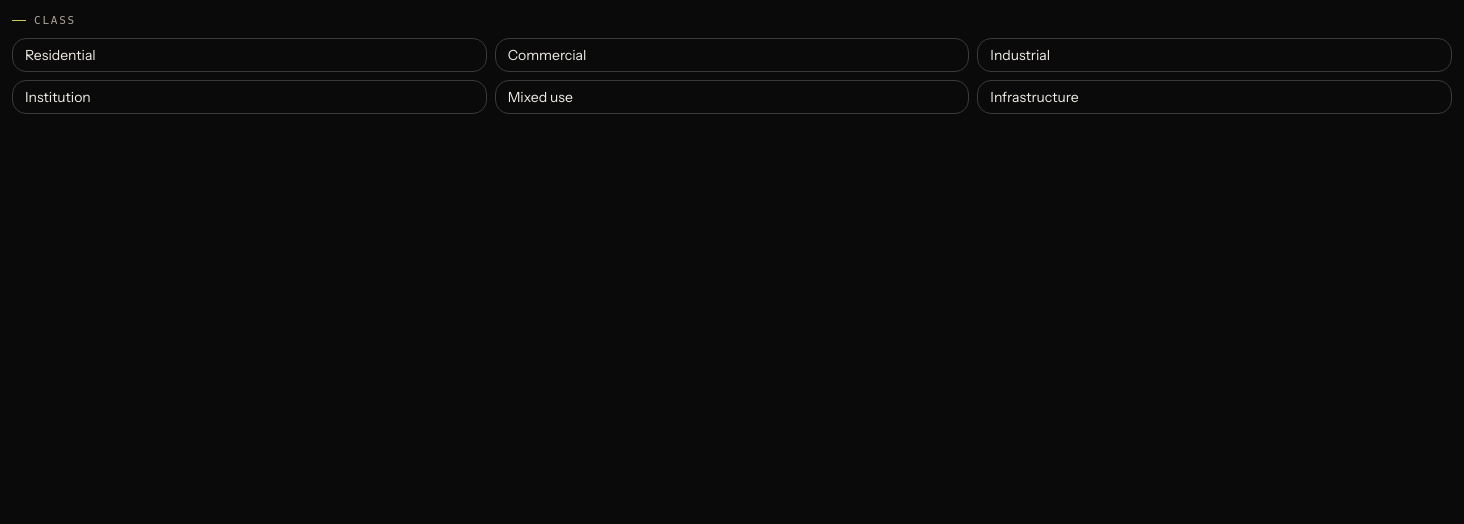
it: TaxonomyPicker › clears a scope category when the category checkbox is unchecked
This screenshot has width=1464, height=524.
Click the button "Industrial": [1020, 55] box [977,38,1452,72]
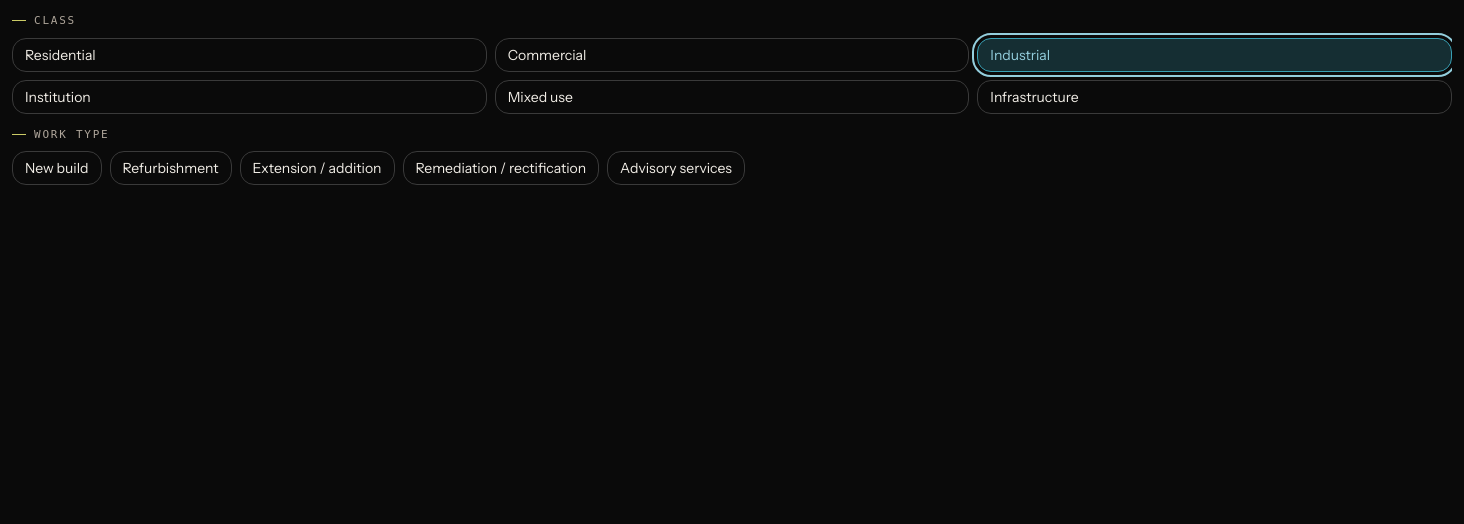
Click the button "Extension / addition": [317, 168] box [240,151,394,185]
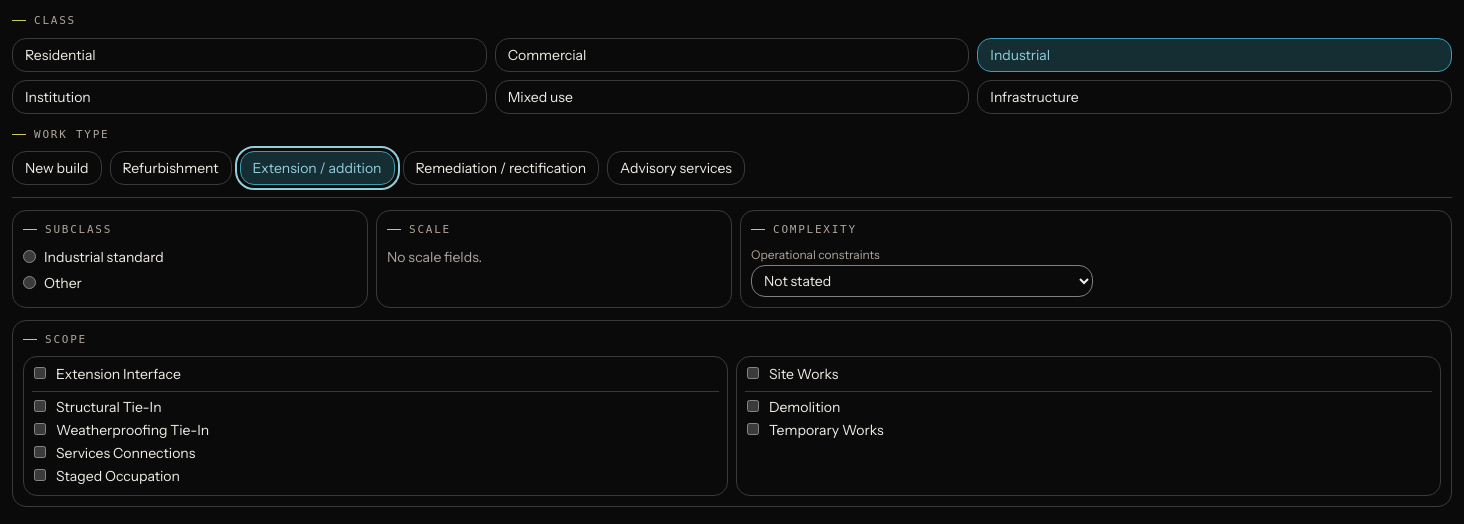
Click the checkbox labelled "Demolition": [753, 406] box [747,400,759,412]
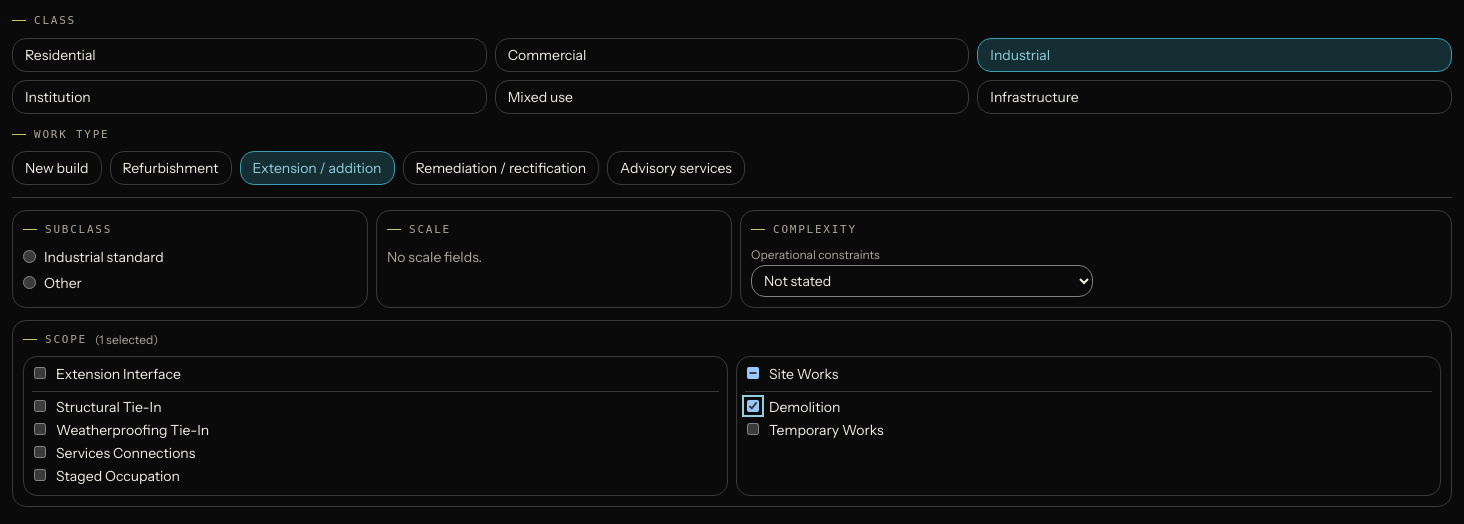
Click the checkbox named "Select all Extension Interface": [40, 373] box [34,367,46,379]
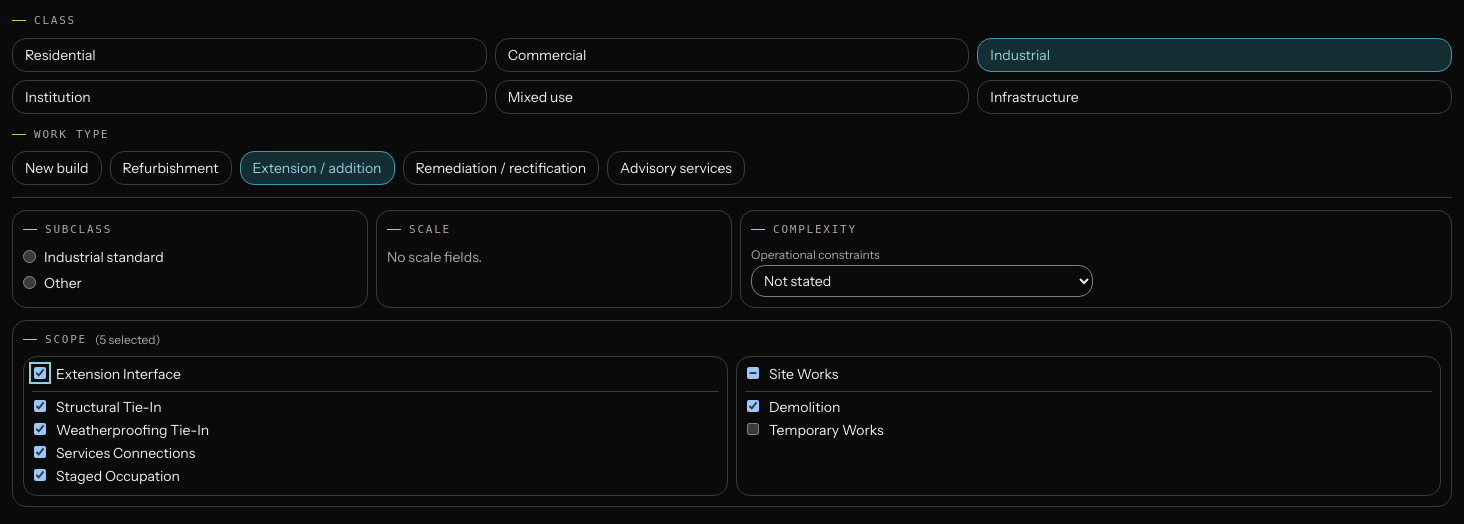
Click the checkbox named "Select all Extension Interface": [40, 373] box [34,367,46,379]
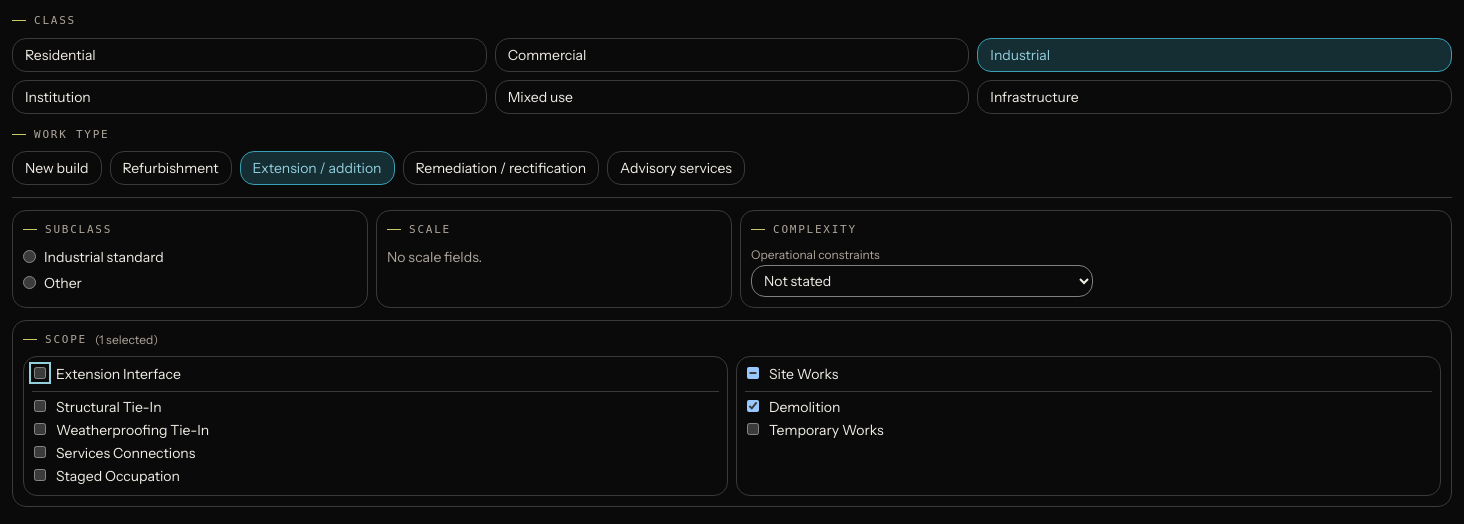
Expected: the checkbox labelled "Demolition" is checked, [747,400,759,412]
Expected: the checkbox labelled "Structural Tie-In" is not checked, [34,400,46,412]
Expected: the checkbox labelled "Staged Occupation" is not checked, [34,469,46,481]
